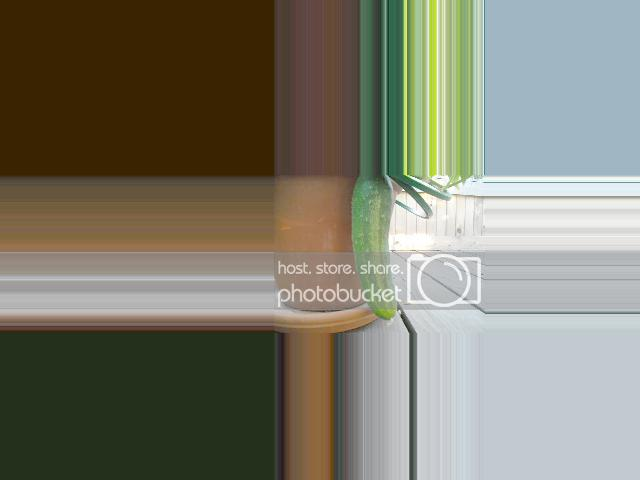cucumber: (352, 175, 397, 327)
